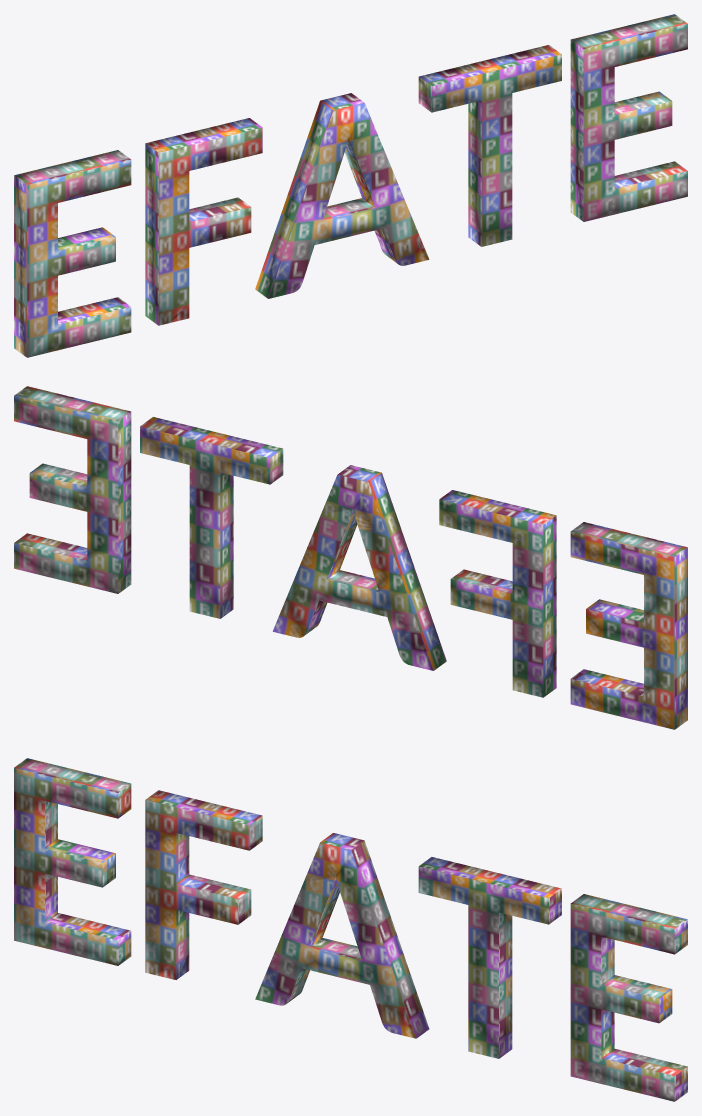
The model's file is efate.dae.
3 renders of one model, top to bottom at view 1: azimuth 30°, elevation 25°; view 2: azimuth 150°, elevation 25°; view 3: azimuth 330°, elevation 25°, orthographic.
Visible parts, largest first — view 1: text1-0; view 2: text1-0; view 3: text1-0.
Part boxes in pixels (x1,y1,x2,y2): text1-0: (14, 14, 687, 357); text1-0: (14, 386, 687, 729); text1-0: (14, 758, 687, 1101).
Bounding box in the file's own units: 5.78 × 1.45 × 0.2.
